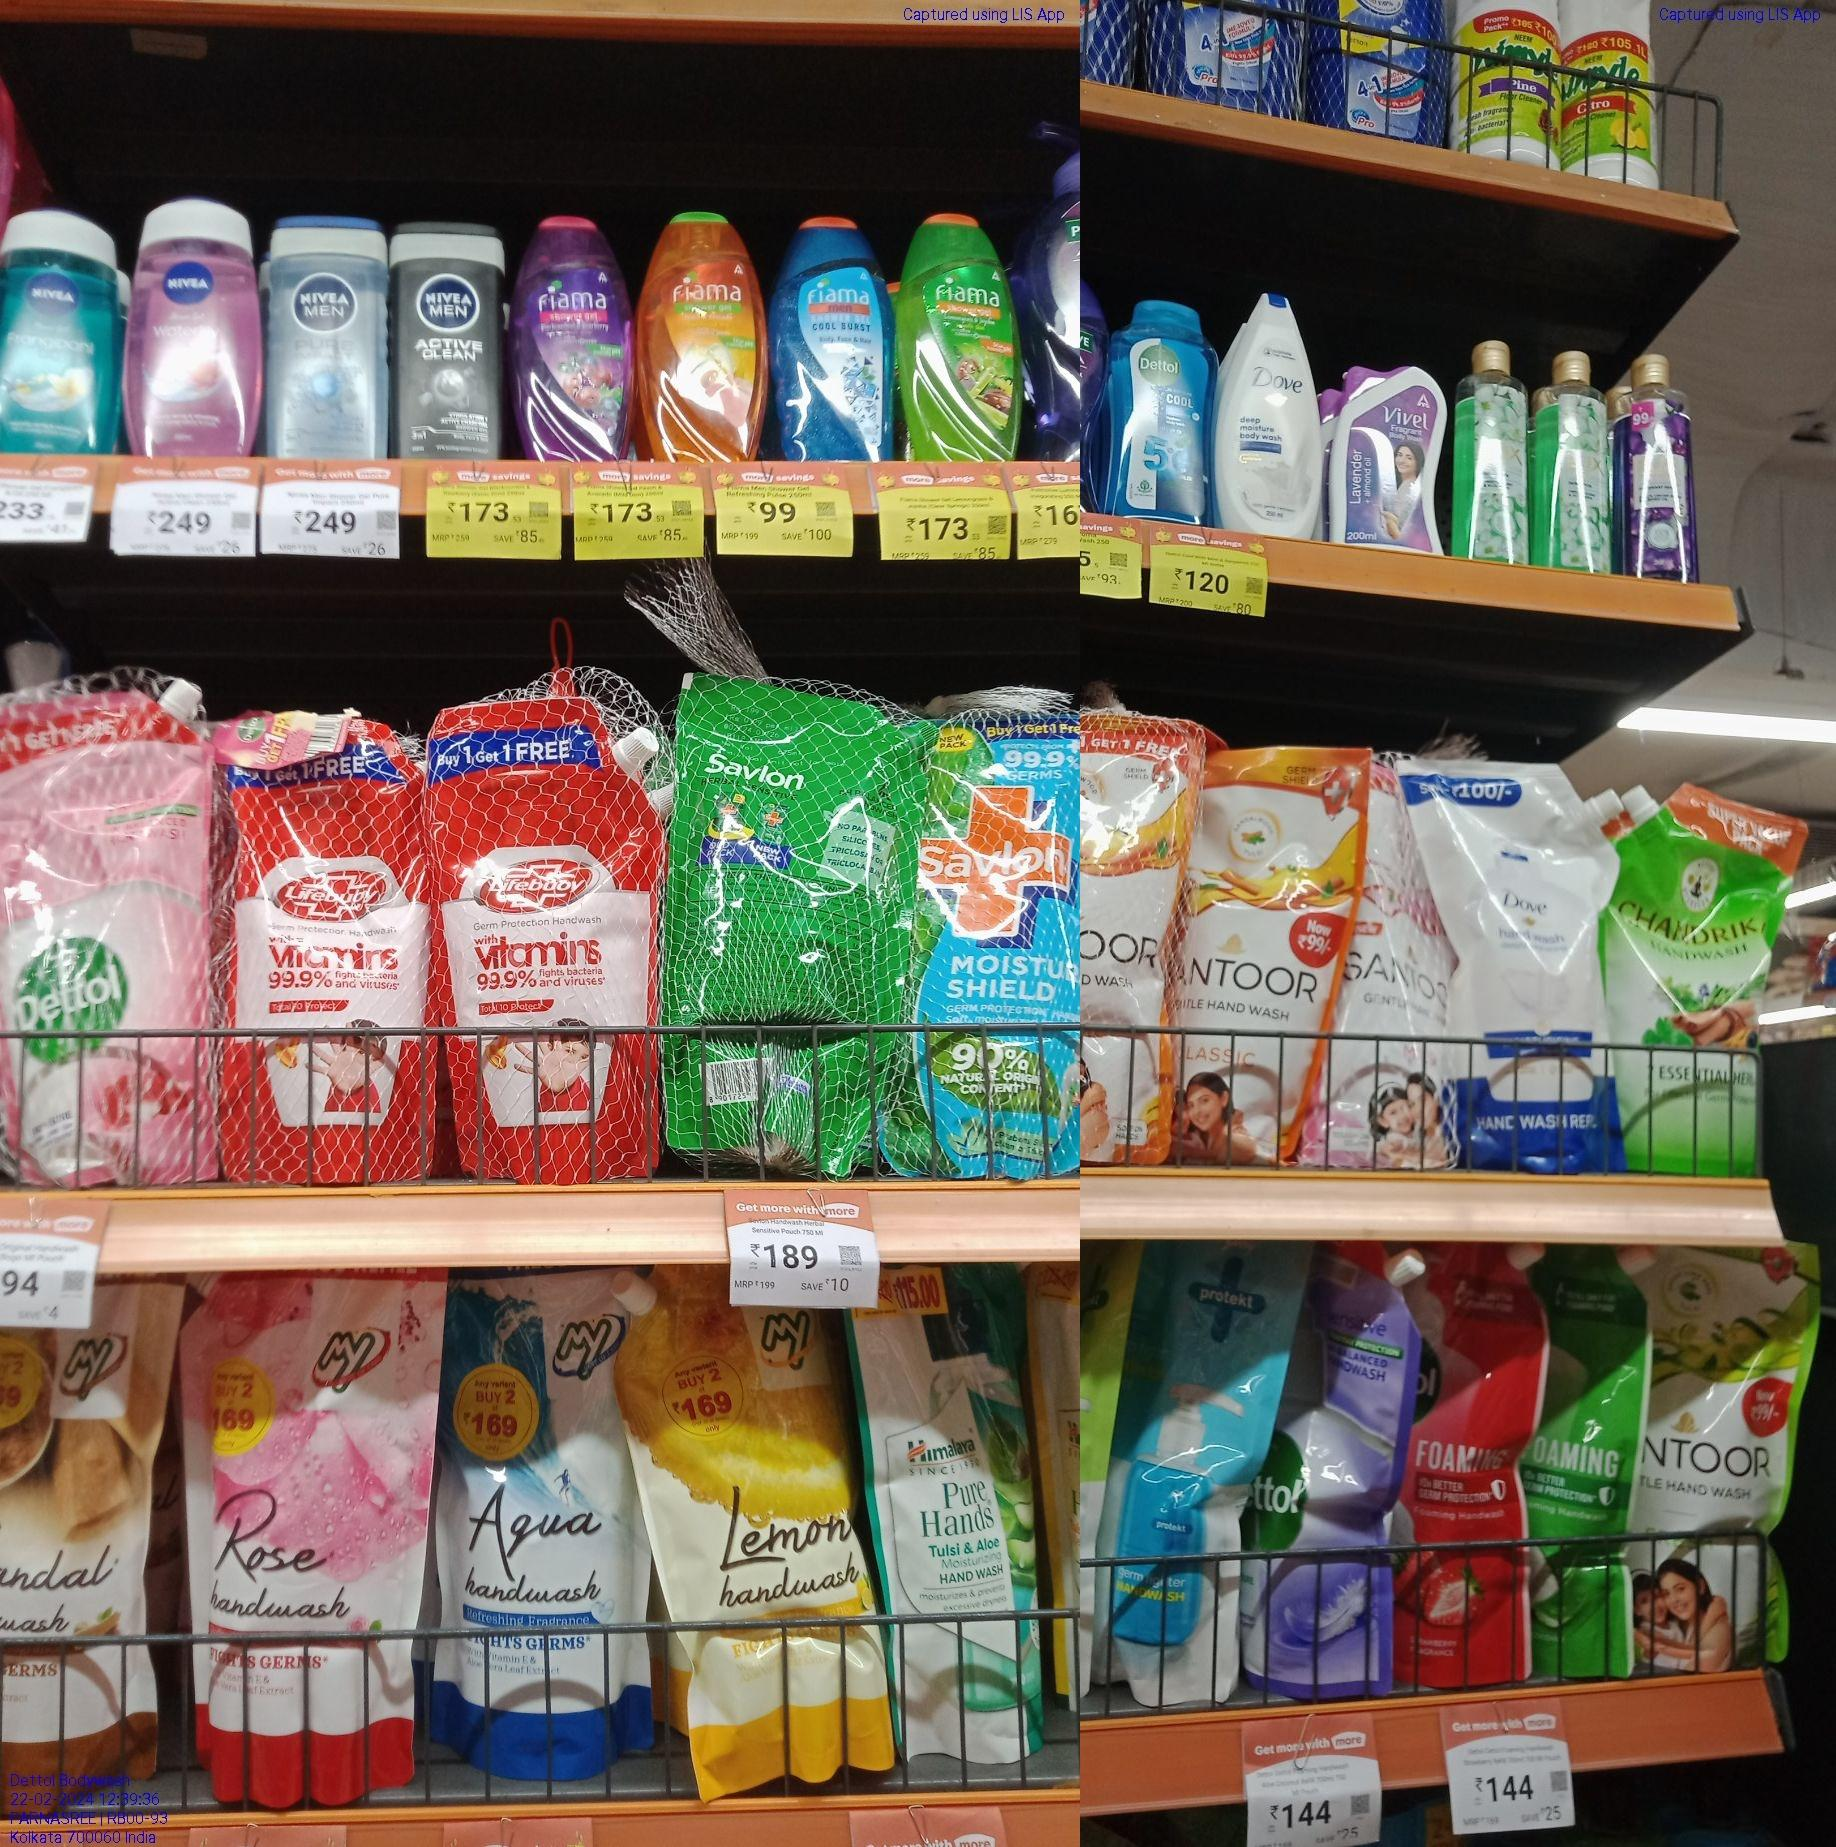Dettol_Bodywash_Cool: (1113, 297, 1216, 524)
Dove_Deep_Moisture_Body_Wash_250ML: (1224, 282, 1320, 531)
Fiama_Shower_Gel_Lemongrass_and_Jojoba_250ML: (896, 213, 1022, 464)
Fiama_Shower_Gel_Peach_and_Avocado_250ML: (642, 208, 767, 459)
Lux_Black_Orchid_Scent_and_Juniper_Oil_Body_Wash_245ML: (1622, 348, 1696, 576)
Lux_Body_Wash_Skin_Detox_Freesia_Scent_and_Alove_Vera_245ML: (1453, 333, 1533, 563), (1542, 333, 1614, 573)
Nivea_Shower_Gel_Frangipani_and_Oil_250ML: (0, 203, 114, 447)
Nivea_Shower_Gel_Waterlily_and_Oil_250ML: (131, 198, 264, 454)
